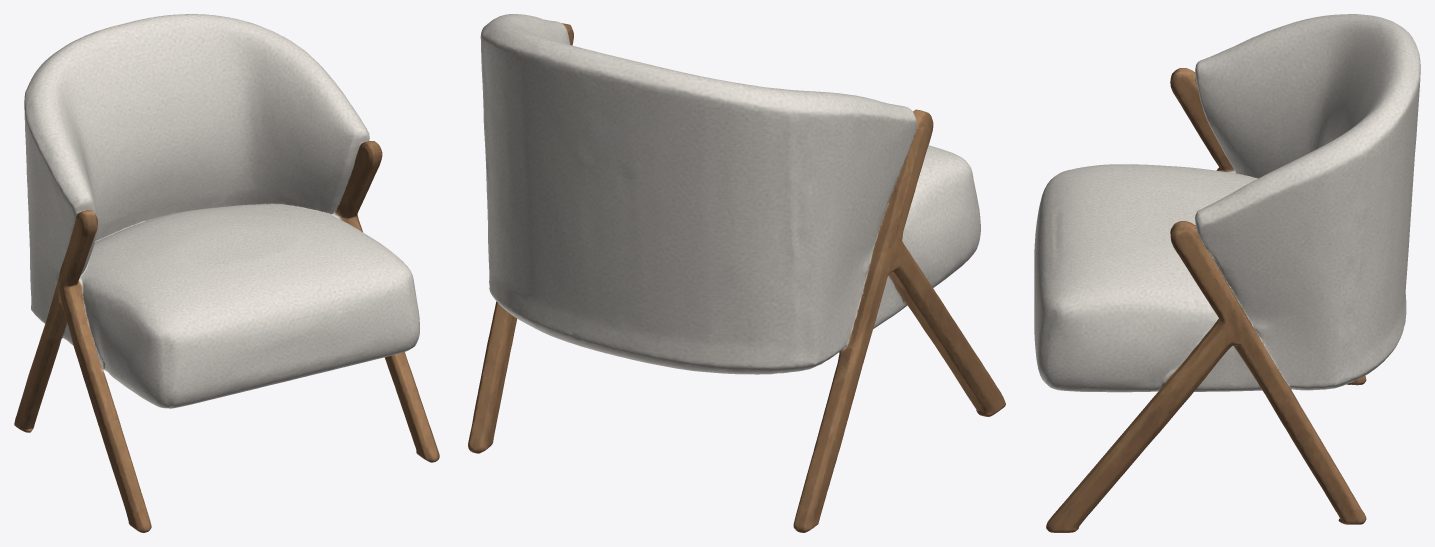
The model's file is lounge-chair-cream-boucle-wood-frame-main-sofa-palette-web-mesh.glb.
3 renders of one model, left to right at view 1: azimuth 30°, elevation 25°; view 2: azimuth 150°, elevation 25°; view 3: azimuth 270°, elevation 25°, orthographic. The views are drawn at different scales.
Visible parts, largest first — view 1: world; view 2: world; view 3: world.
Part boxes in pixels (x1,y1,x2,y2): world: (14,14,439,532); world: (468,14,1005,532); world: (1034,14,1420,532).
Size of the model in its own units: 0.8917 by 1 by 0.8873.
Materials: 1 (1 with a texture image).
